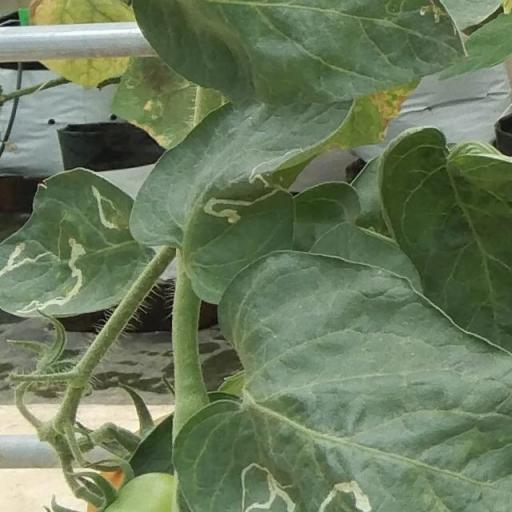Healthy: (378, 123, 512, 353)
Leaf_Miner: (171, 240, 512, 512), (130, 93, 356, 308), (131, 0, 476, 103), (0, 162, 155, 323)
